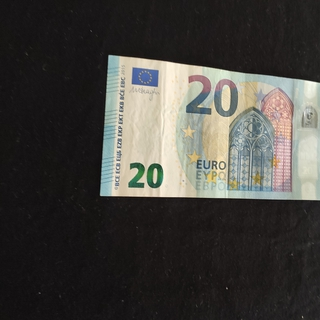20EUROFront: (99, 54, 320, 201)
